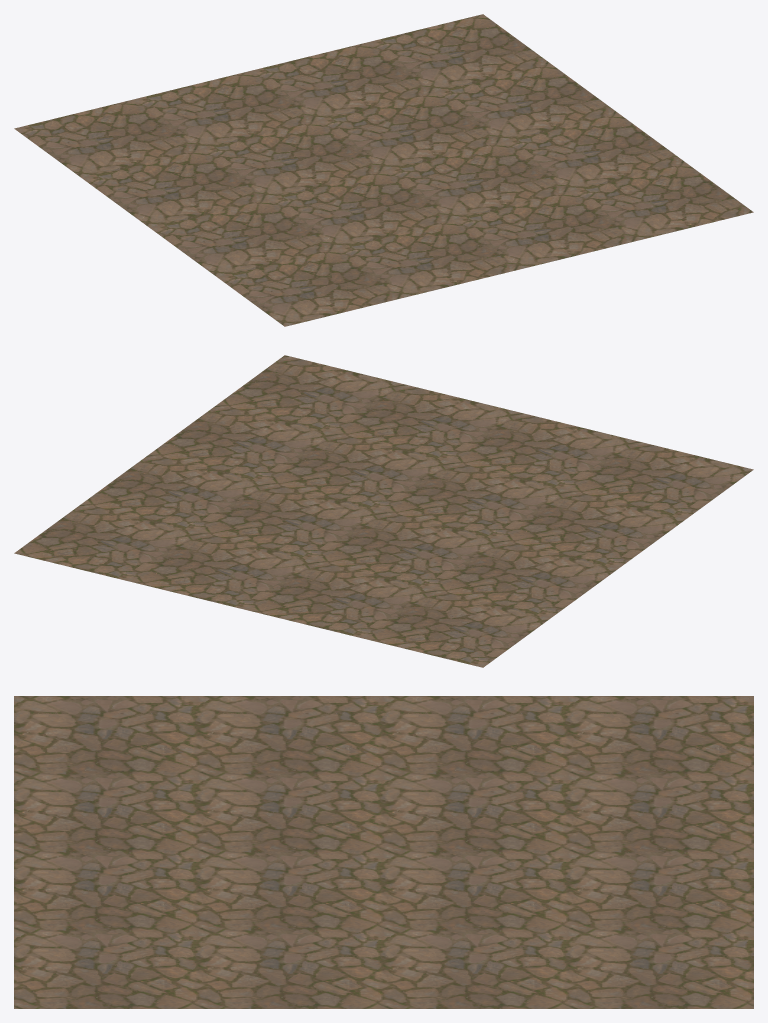
File: floor.glb
The picture shows the model from 3 angles, top to bottom: view 1: azimuth 30°, elevation 25°; view 2: azimuth 150°, elevation 25°; view 3: azimuth 270°, elevation 25°; orthographic projection. The views are drawn at different scales.
Visible parts, largest first — view 1: Floor; view 2: Floor; view 3: Floor.
Boxes of the visible parts, <box> form: Floor: <box>14,14,753,326</box>; Floor: <box>14,355,753,667</box>; Floor: <box>14,696,753,1008</box>.
Bounding box in the file's own units: 20 × 0 × 20.
Materials: 1 (1 with a texture image).
